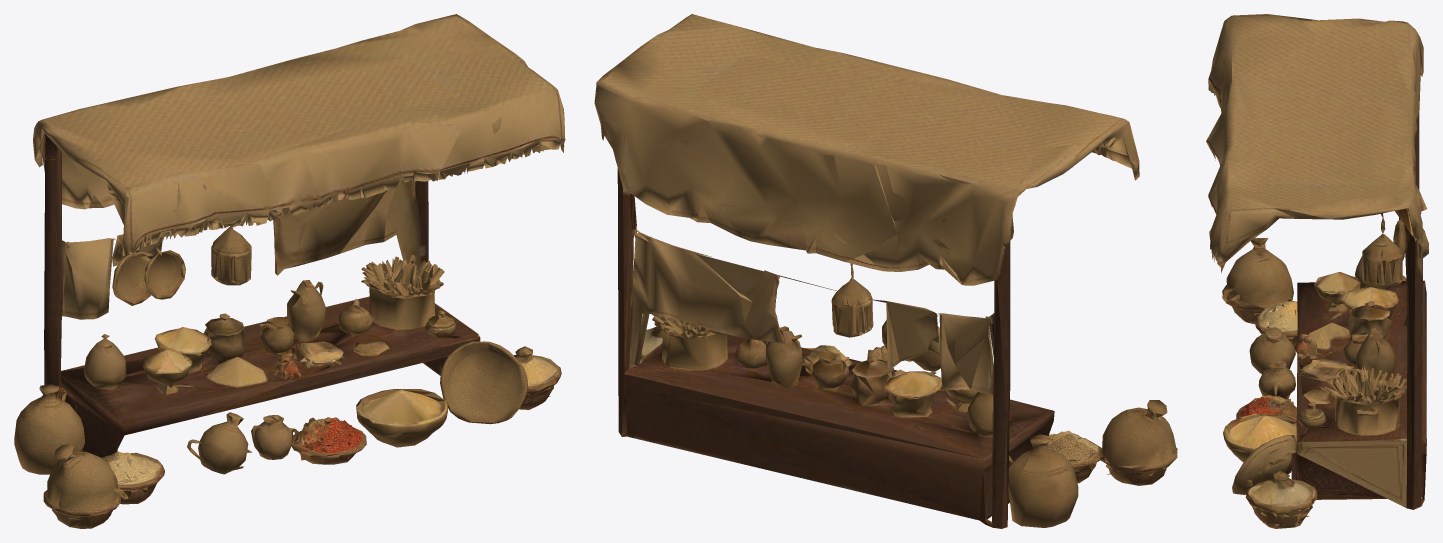
The model's file is spice_stall.glb.
3 views of the same model, side by side, from view 1: azimuth 30°, elevation 25°; view 2: azimuth 150°, elevation 25°; view 3: azimuth 270°, elevation 25° (orthographic). The views are drawn at different scales.
Visible parts, largest first — view 1: spice_stall; view 2: spice_stall; view 3: spice_stall.
Part boxes in pixels (left/top/right/bottom): spice_stall: left=14, top=14, right=565, bottom=528; spice_stall: left=594, top=14, right=1177, bottom=528; spice_stall: left=1206, top=14, right=1428, bottom=528.
Bounding box in the file's own units: 2.2 × 1.37 × 0.8772.
1 material, 1 textured.
